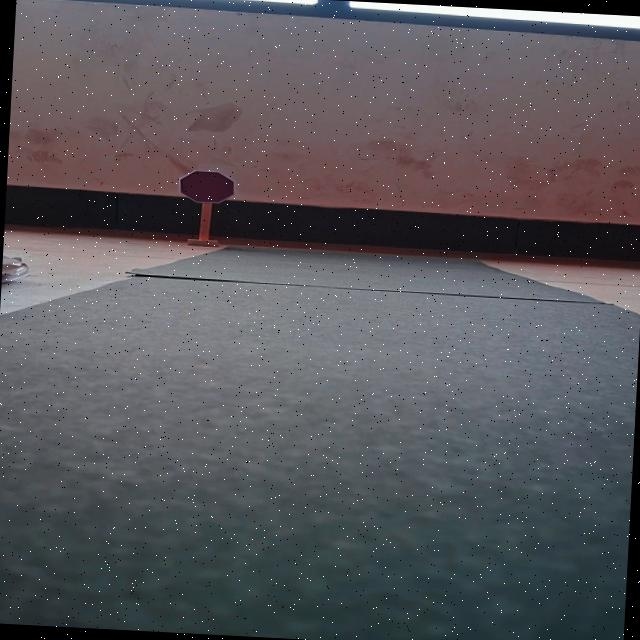Stop: (178, 170, 235, 206)
